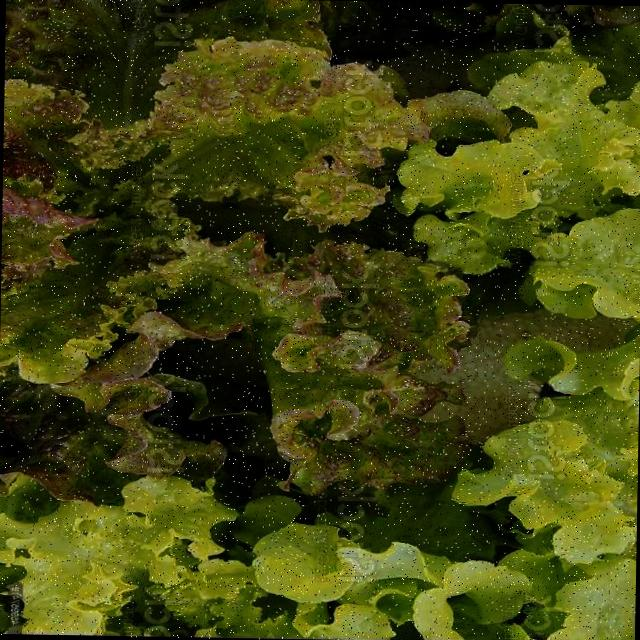Bacterial: (268, 264, 467, 484), (159, 44, 386, 210)
